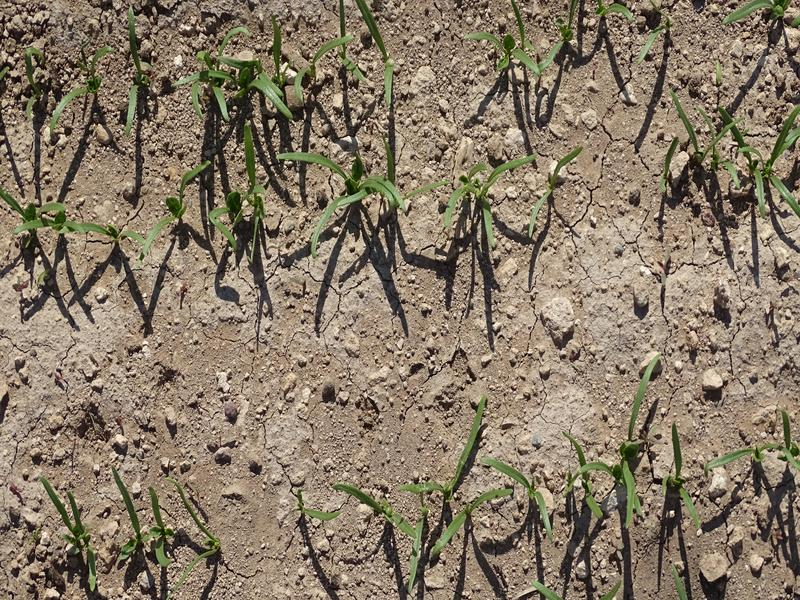Espinaca: (35, 135, 516, 253), (365, 401, 564, 582), (45, 25, 409, 122), (576, 408, 796, 527), (54, 470, 229, 582), (652, 84, 800, 215), (476, 2, 632, 77)
